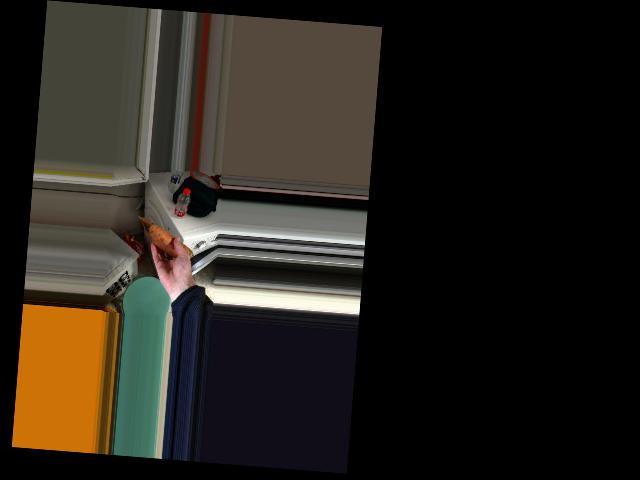sweet_potato: (150, 224, 185, 257)
